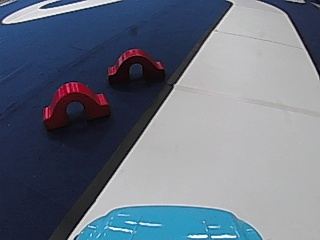bridge: (38, 78, 112, 128), (105, 44, 164, 86)
